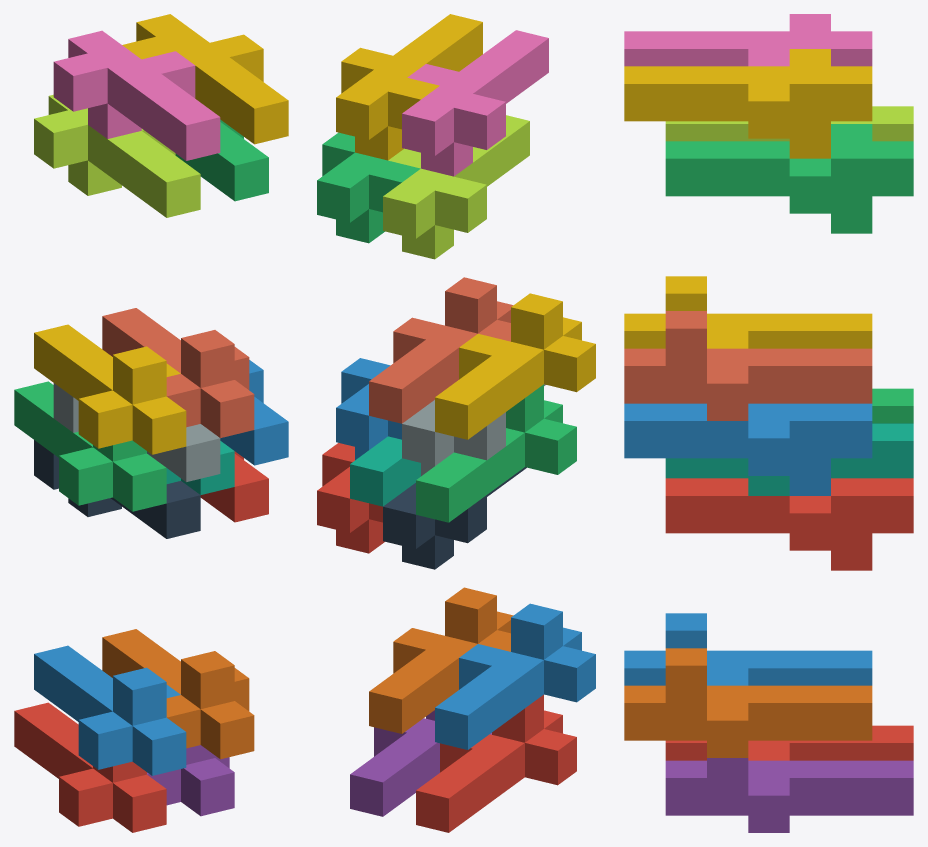
Rendered from tiling.obj.
3 views of the same model, side by side, from view 1: azimuth 30°, elevation 25°; view 2: azimuth 150°, elevation 25°; view 3: azimuth 270°, elevation 25° (orthographic). The views are drawn at different scales.
Parts seen in each view (by area): view 1: copy_2_domain_4, copy_1_domain_2, copy_1_domain_4, copy_2_domain_3, copy_1_domain_6, copy_1_domain_8, copy_1_domain_1, copy_2_domain_8, copy_1_domain_3, copy_2_domain_1, copy_1_domain_5, copy_2_domain_7 (+4 smaller); view 2: copy_1_domain_4, copy_1_domain_2, copy_2_domain_4, copy_1_domain_1, copy_2_domain_8, copy_1_domain_6, copy_1_domain_8, copy_2_domain_3, copy_1_domain_3, copy_2_domain_7, copy_1_domain_5, copy_2_domain_1 (+4 smaller); view 3: copy_2_domain_8, copy_2_domain_7, copy_1_domain_6, copy_1_domain_8, copy_2_domain_6, copy_1_domain_5, copy_2_domain_5, copy_1_domain_2, copy_1_domain_4, copy_2_domain_4, copy_1_domain_7, copy_1_domain_1 (+2 smaller).
Boxes of the visible parts, x1,y1,x2,y2 form: copy_2_domain_4: (53,30,220,160); copy_1_domain_2: (34,645,186,775); copy_1_domain_4: (34,324,186,454); copy_2_domain_3: (34,94,200,217); copy_1_domain_6: (102,629,254,759); copy_1_domain_8: (102,308,254,437); copy_1_domain_1: (14,702,166,832); copy_2_domain_8: (122,14,288,144); copy_1_domain_3: (14,381,166,511); copy_2_domain_1: (34,440,200,538); copy_1_domain_5: (147,745,234,816); copy_2_domain_7: (175,119,268,201); copy_1_domain_4: (435,293,595,439); copy_1_domain_2: (435,603,595,749); copy_2_domain_4: (402,30,548,176); copy_1_domain_1: (416,694,576,832); copy_2_domain_8: (336,14,482,160); copy_1_domain_6: (369,587,513,733); copy_1_domain_8: (369,277,513,423); copy_2_domain_3: (383,115,529,259); copy_1_domain_3: (416,384,576,522); copy_2_domain_7: (317,132,420,243); copy_1_domain_5: (350,710,491,816); copy_2_domain_1: (383,467,526,569); copy_2_domain_8: (624,49,872,158); copy_2_domain_7: (665,124,913,233); copy_1_domain_6: (624,648,872,757); copy_1_domain_8: (624,311,872,420); copy_2_domain_6: (624,403,872,495); copy_1_domain_5: (665,758,913,832); copy_2_domain_5: (665,478,913,570); copy_1_domain_2: (624,613,872,685); copy_1_domain_4: (624,276,872,348); copy_2_domain_4: (624,14,872,66); copy_1_domain_7: (665,423,913,495); copy_1_domain_1: (665,725,913,760).
Bounding box in the file's own units: 6 × 20 × 7.
